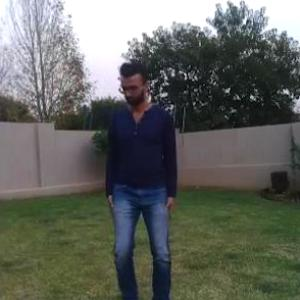follow: (101, 40, 180, 299)
